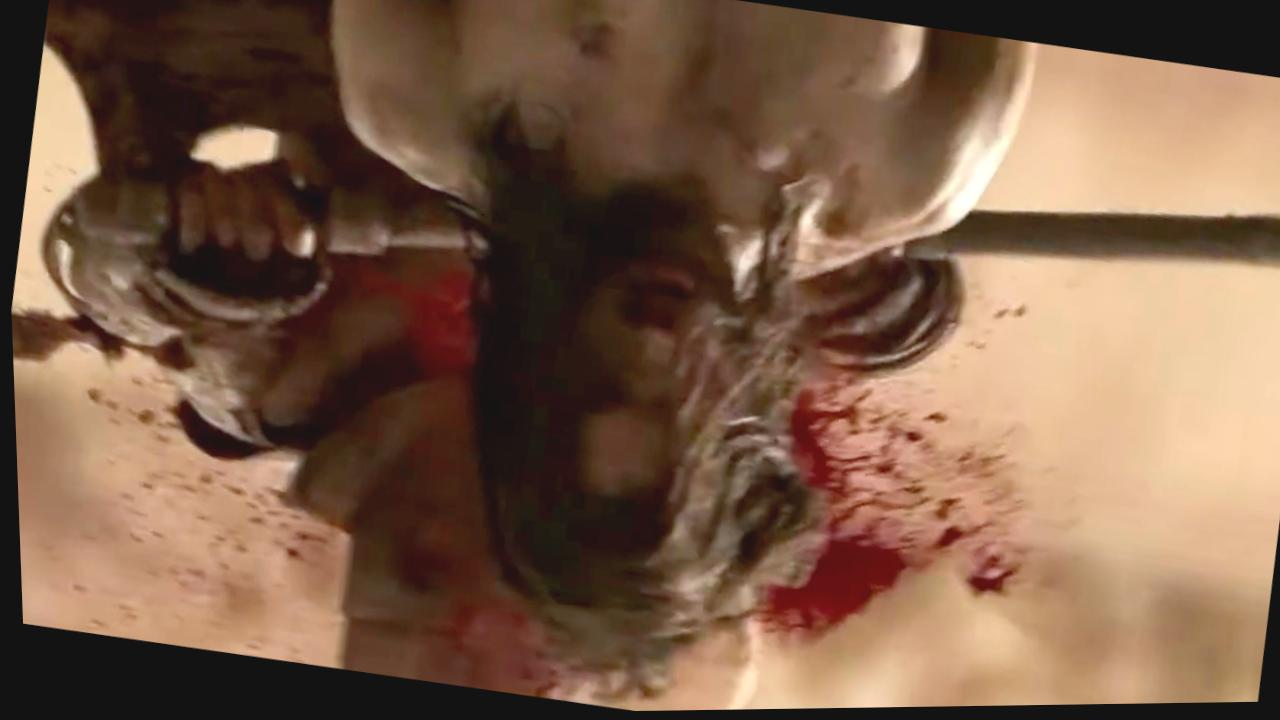Fire: (752, 387, 1019, 648)
